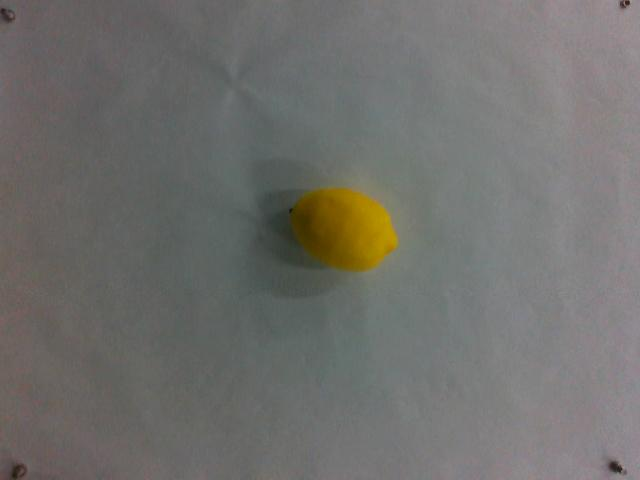lemon: (284, 182, 401, 275)
